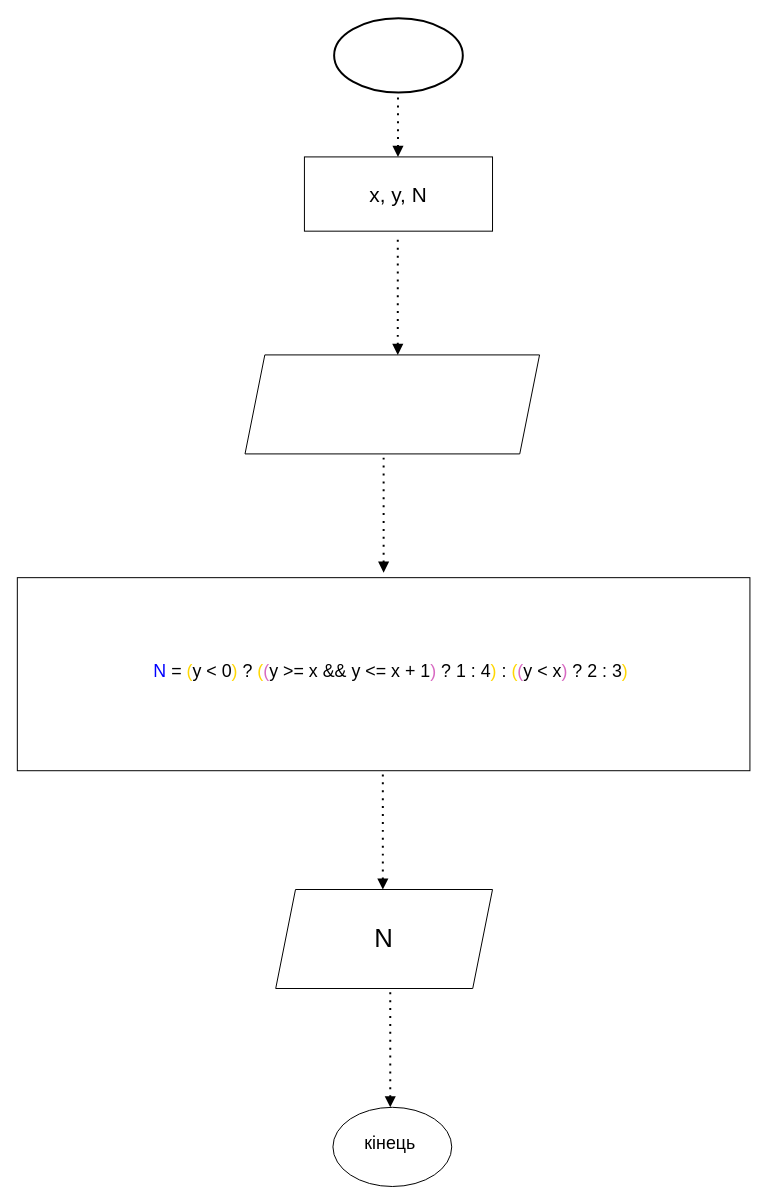
The diagram is 767 pixels wide and 1204 high, and some of its shapes have lost their labels. The centre of each missing label's shape, as x and y in pixels:
x, y: point 392,404
початок: point 398,55
